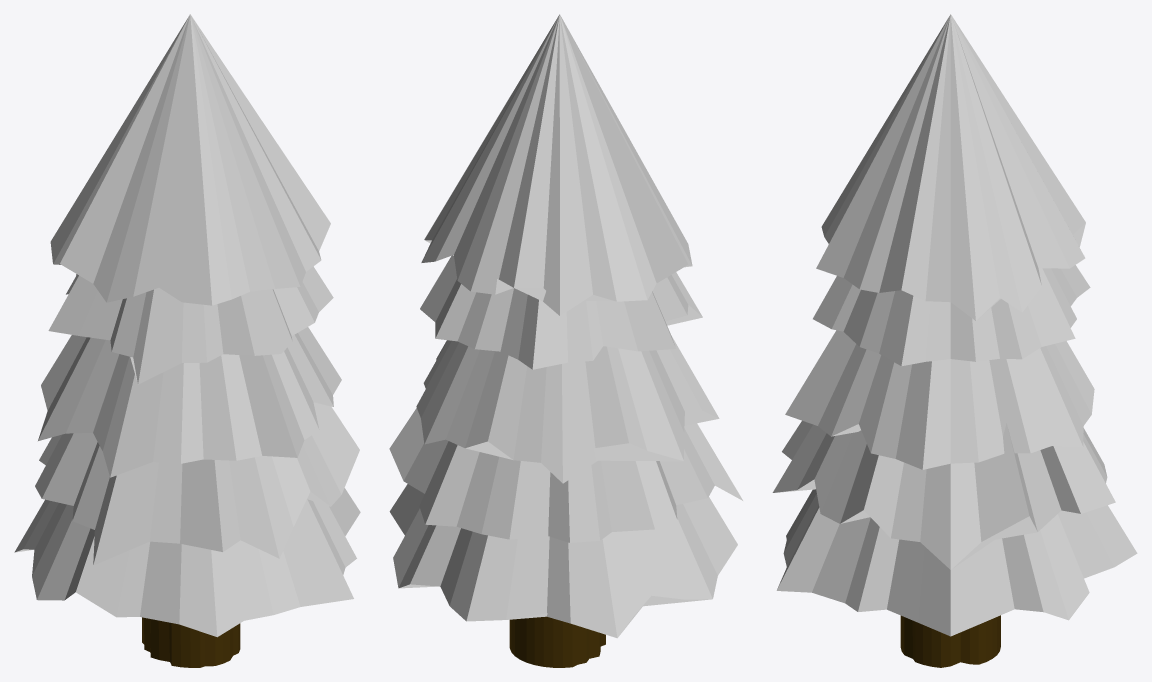
The model's file is aaç.fbx.
3 renders of one model, left to right at view 1: azimuth 30°, elevation 25°; view 2: azimuth 150°, elevation 25°; view 3: azimuth 270°, elevation 25°, orthographic.
Visible parts, largest first — view 1: Cone.004; view 2: Cone.004; view 3: Cone.004.
Boxes of the visible parts, left/top/right/bottom form: Cone.004: left=14, top=14, right=360, bottom=667; Cone.004: left=389, top=14, right=742, bottom=667; Cone.004: left=772, top=14, right=1137, bottom=667.
Size of the model in its own units: 186 by 349 by 182.
